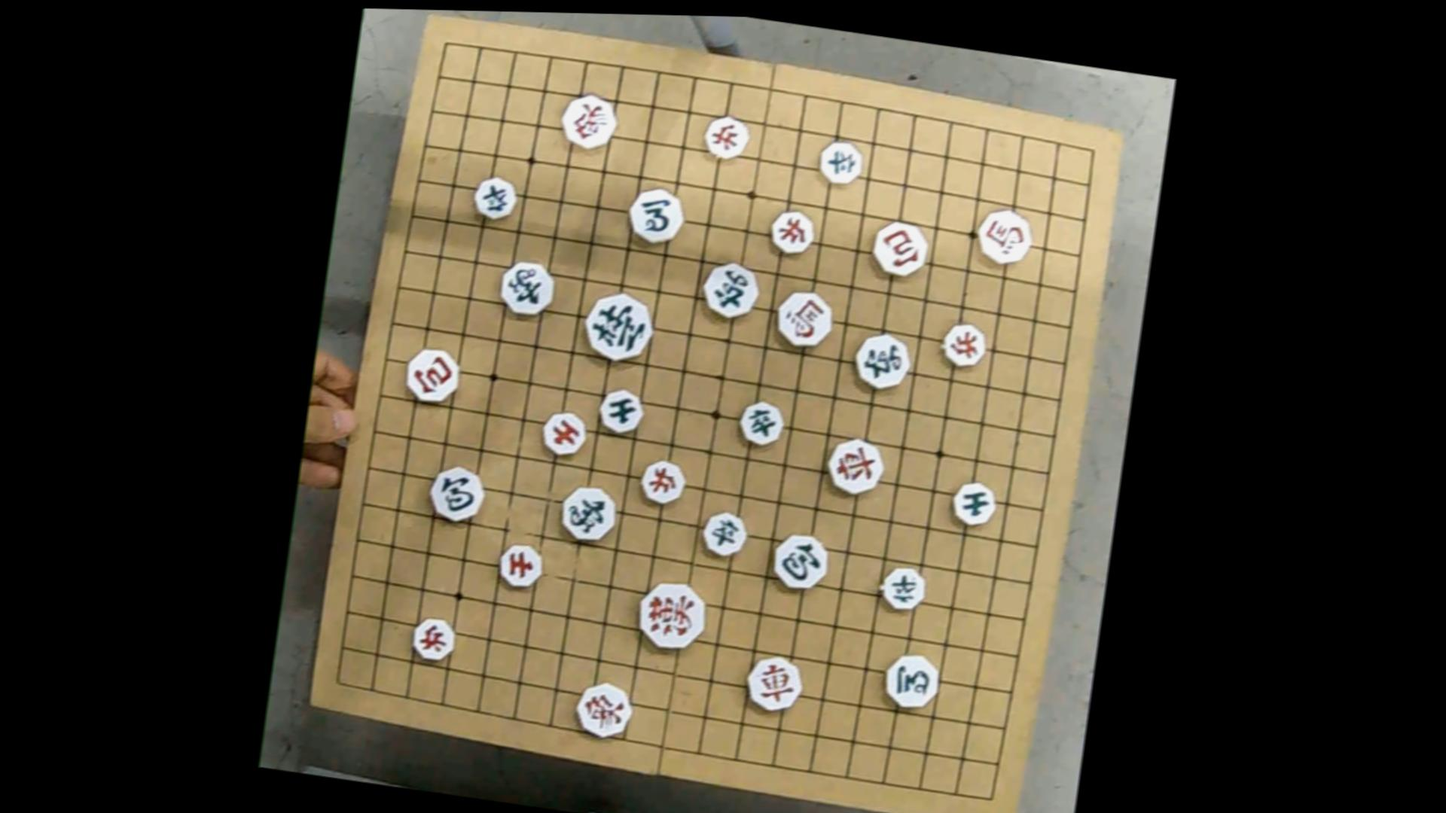cha_green: (852, 328, 911, 393), (702, 258, 759, 322)
cha_red: (744, 650, 804, 715), (828, 437, 883, 497)
jol_green: (880, 562, 928, 614), (737, 399, 786, 448), (471, 172, 517, 224), (701, 507, 747, 559), (819, 136, 863, 187)
jol_red: (636, 458, 688, 506), (940, 318, 987, 368), (411, 613, 456, 662), (704, 114, 750, 161), (770, 208, 816, 255)
ma_green: (882, 650, 941, 712), (627, 183, 685, 245)
ma_red: (776, 288, 837, 349), (976, 205, 1034, 269)
po_green: (430, 461, 487, 524), (773, 529, 828, 589)
po_red: (868, 216, 927, 278), (402, 344, 459, 405)
sa_green: (597, 385, 645, 438), (952, 476, 999, 528)
sa_red: (541, 407, 588, 458), (497, 540, 543, 590)
sang_green: (558, 482, 615, 545), (497, 257, 555, 318)
sang_red: (574, 676, 633, 742), (557, 90, 620, 151)
wang_green: (584, 288, 651, 364)
wang_red: (633, 579, 709, 650)
